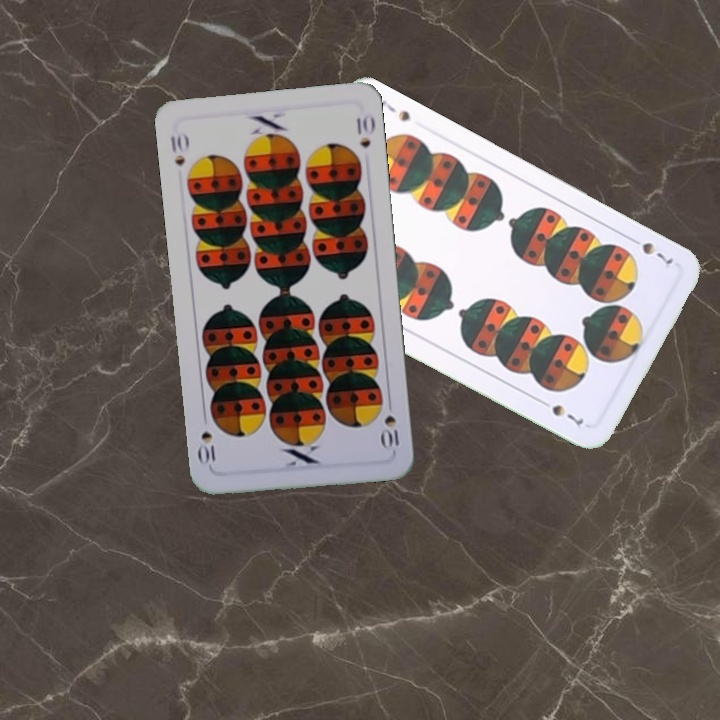S10: (379, 395, 401, 452), (166, 129, 191, 169)
S7: (624, 232, 679, 271)
